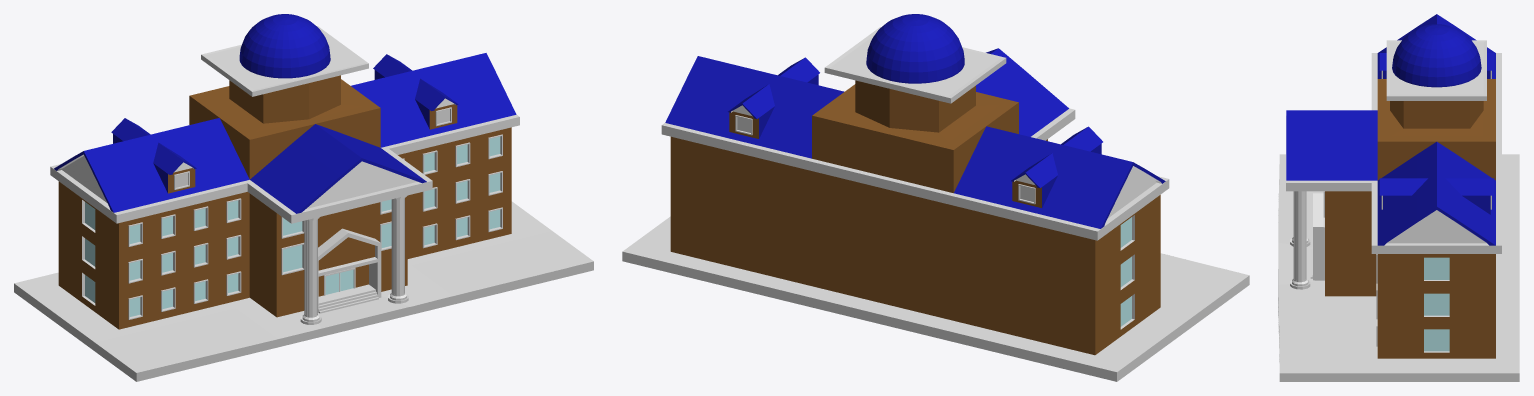
Rendered from University.glb.
3 renders of one model, left to right at view 1: azimuth 30°, elevation 25°; view 2: azimuth 150°, elevation 25°; view 3: azimuth 270°, elevation 25°, orthographic. The views are drawn at different scales.
Parts seen in each view (by area): view 1: Cube; view 2: Cube; view 3: Cube.
Part boxes in pixels (box(x1,y1,x2,y2)): Cube: box(14, 14, 593, 381); Cube: box(622, 14, 1249, 381); Cube: box(1278, 14, 1519, 381).
Bounding box in the file's own units: 8.75 × 4.54 × 4.08.
